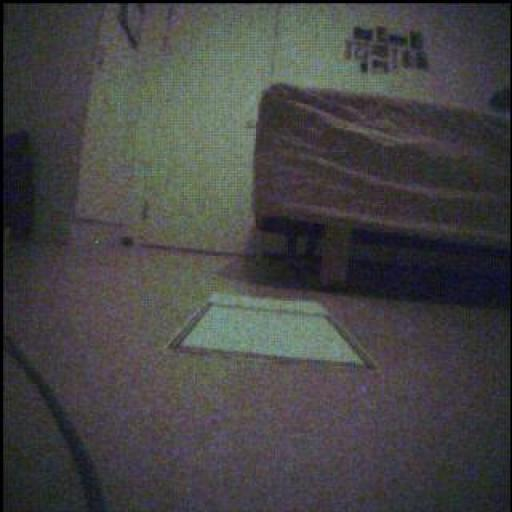pad: (171, 295, 376, 369)
